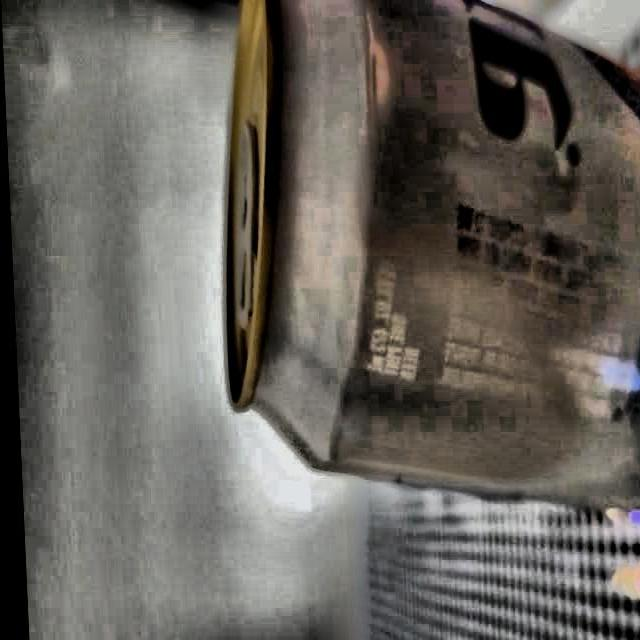Aluminum Can: (208, 0, 640, 539)
